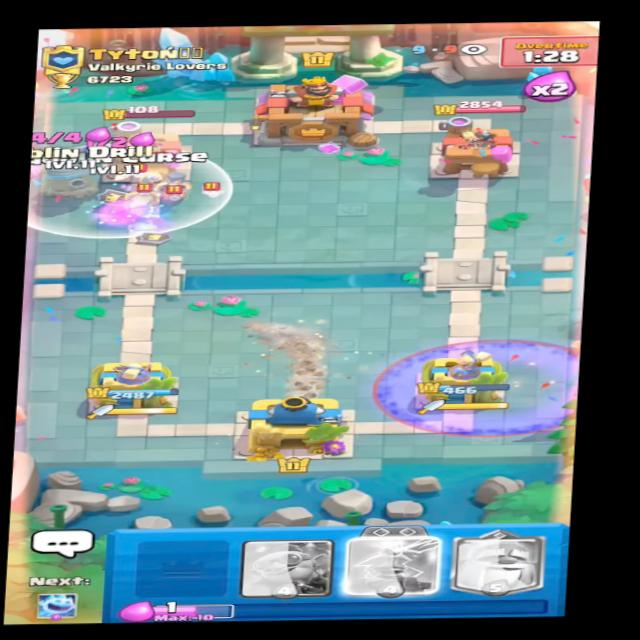bats: (134, 183, 168, 199), (200, 183, 229, 199)
graveyard: (369, 335, 594, 442)
night-witch: (147, 160, 208, 207)
